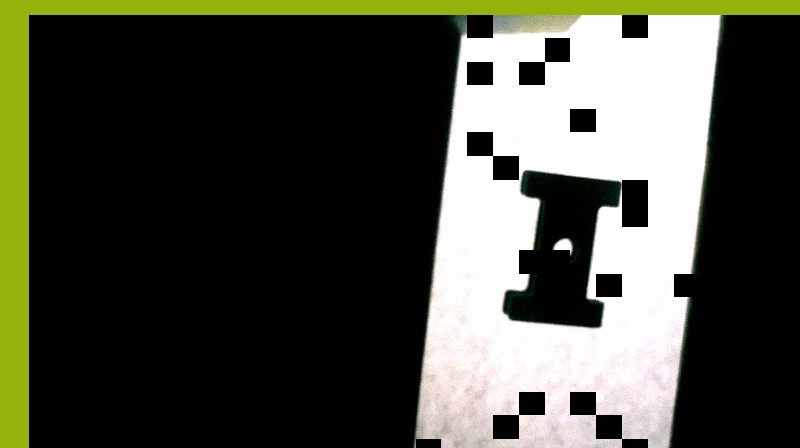O002: (501, 166, 626, 331)
